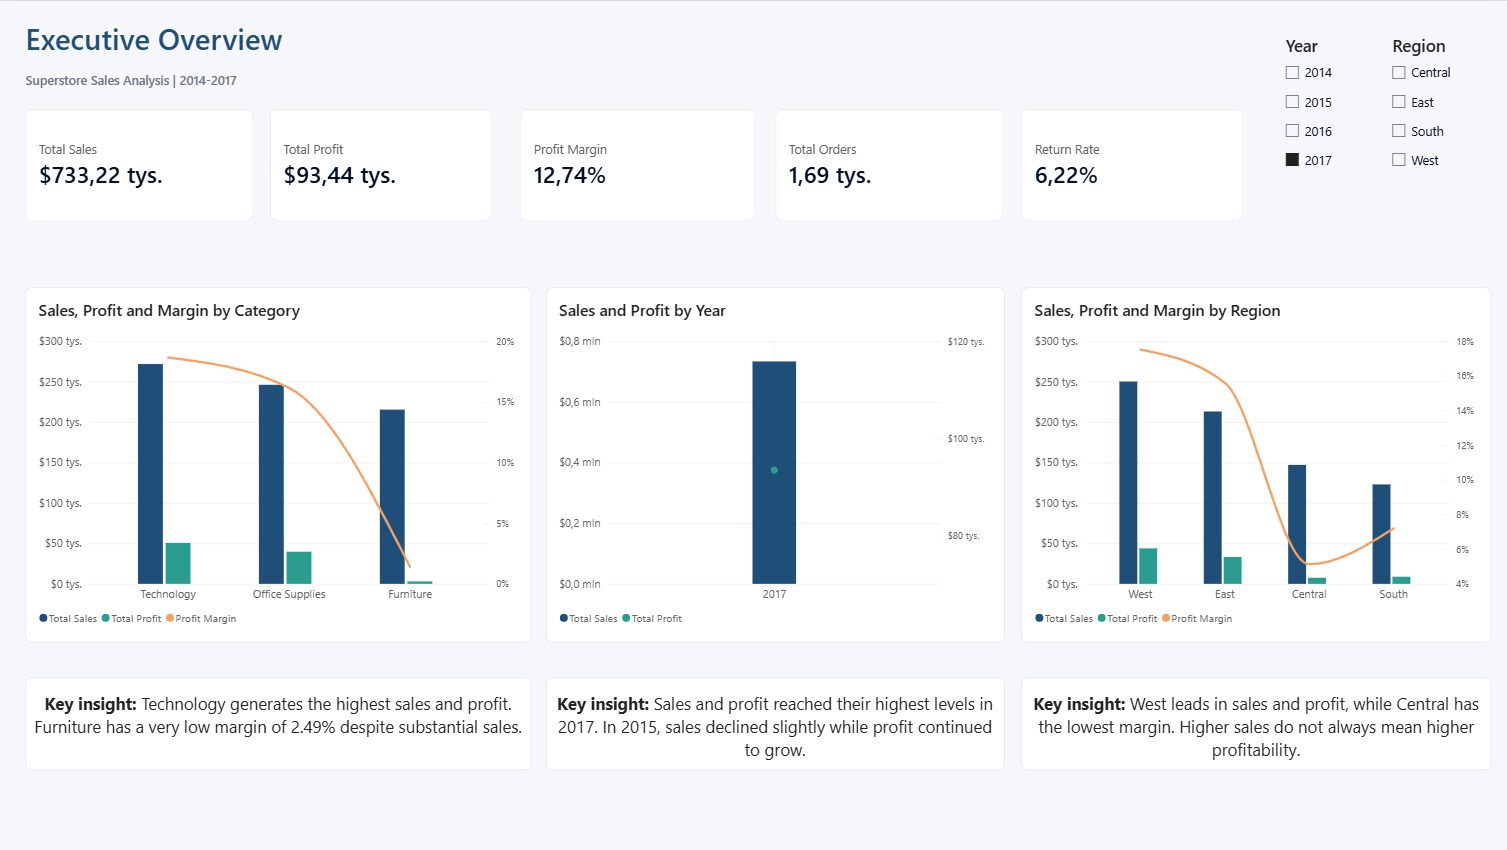

What the dashboard file says about the page in this screenshot:
{"tool":"powerbi","page":{"name":"Executive Overview","canvas":[1920,1080],"ordinal":0},"visuals":[{"type":"cardVisual","fields":{"Data":["_Measures.Total Sales"]},"box":[32,138,290,142],"z":0},{"type":"cardVisual","fields":{"Data":["_Measures.Total Profit"]},"box":[344,138,282,142],"z":1000},{"type":"cardVisual","fields":{"Data":["_Measures.Profit Margin"]},"box":[662,138,298,142],"z":2000},{"type":"cardVisual","fields":{"Data":["_Measures.Total Orders"]},"box":[988,138,290,142],"z":3000},{"type":"cardVisual","fields":{"Data":["_Measures.Return Rate"]},"box":[1300,138,282,142],"z":4000},{"type":"lineClusteredColumnComboChart","title":"Sales and Profit by Year","fields":{"Category":["Calendar.Year"],"Y":["_Measures.Total Sales"],"Y2":["_Measures.Total Profit"]},"box":[696,364,584,452],"z":5000},{"type":"lineClusteredColumnComboChart","title":"Sales, Profit and Margin by Region","fields":{"Category":["people.region"],"Y":["_Measures.Total Sales","_Measures.Total Profit"],"Y2":["_Measures.Profit Margin"]},"box":[1300,364,598,452],"z":6000},{"type":"lineClusteredColumnComboChart","title":"Sales, Profit and Margin by Category ","fields":{"Category":["orders.category"],"Y":["_Measures.Total Sales","_Measures.Total Profit"],"Y2":["_Measures.Profit Margin"]},"box":[32,364,644,452],"z":7000},{"type":"slicer","fields":{"Values":["Calendar.Year"]},"box":[1630,42,126,204],"z":8000},{"type":"slicer","fields":{"Values":["people.region"]},"box":[1764,42,130,198],"z":9000},{"type":"textbox","box":[32,22,416,96],"z":10000},{"type":"textbox","box":[32,862,644,118],"z":11000},{"type":"textbox","box":[696,862,584,118],"z":12000},{"type":"textbox","box":[1300,862,598,118],"z":13000}]}

Visuals, with their boxes in screenshot pixels (x1, y1, x2, y2), scaled from the page's 1920x1080 canvas onto the 1507x850 screenshot:
cardVisual - _Measures.Total Sales: [25, 109, 253, 220]
cardVisual - _Measures.Total Profit: [270, 109, 491, 220]
cardVisual - _Measures.Profit Margin: [520, 109, 754, 220]
cardVisual - _Measures.Total Orders: [775, 109, 1003, 220]
cardVisual - _Measures.Return Rate: [1020, 109, 1242, 220]
"Sales and Profit by Year" lineClusteredColumnComboChart: [546, 286, 1005, 642]
"Sales, Profit and Margin by Region" lineClusteredColumnComboChart: [1020, 286, 1490, 642]
"Sales, Profit and Margin by Category " lineClusteredColumnComboChart: [25, 286, 531, 642]
slicer - Calendar.Year: [1279, 33, 1378, 194]
slicer - people.region: [1385, 33, 1487, 189]
textbox: [25, 17, 352, 93]
textbox: [25, 678, 531, 771]
textbox: [546, 678, 1005, 771]
textbox: [1020, 678, 1490, 771]
